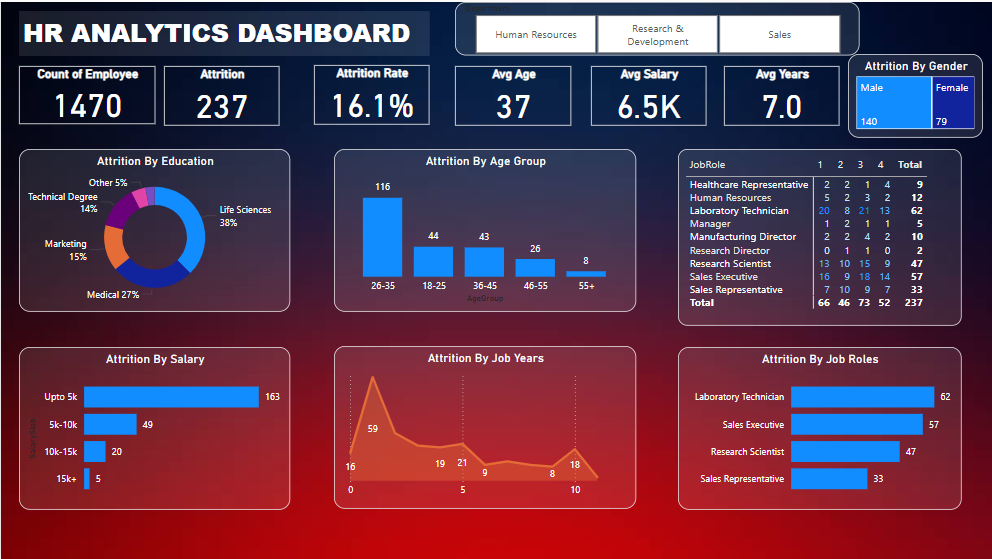

What the dashboard file says about the page in this screenshot:
{"tool":"powerbi","page":{"name":"Page 1","canvas":[1280,720],"ordinal":0},"visuals":[{"type":"card","title":"Count of Employee","fields":{"Values":["Count(HR_Analytics.EmpID)"]},"box":[22.7,82.2,175.7,75.1],"z":0},{"type":"card","title":"Avg Age","fields":{"Values":["Avg(HR_Analytics.Age)"]},"box":[585.4,82.2,150.2,76.5],"z":1000},{"type":"card","title":"Attrition","fields":{"Values":["Sum(HR_Analytics.AttritionCount)"]},"box":[209.8,82.2,148.8,76.5],"z":2000},{"type":"card","title":"Attrition Rate","fields":{"Values":["HR_Analytics.AttritionRate"]},"box":[403.9,80.8,148.8,76.5],"z":3000},{"type":"card","title":"Avg Salary","fields":{"Values":["Avg(HR_Analytics.MonthlyIncome)"]},"box":[761.1,82.2,148.8,76.5],"z":4000},{"type":"card","title":"Avg Years","fields":{"Values":["Avg(HR_Analytics.YearsAtCompany)"]},"box":[932.6,82.2,148.8,76.5],"z":5000},{"type":"donutChart","title":"Attrition By Education","fields":{"Y":["Sum(HR_Analytics.AttritionCount)"],"Category":["HR_Analytics.EducationField"]},"box":[22.7,189.9,350.1,209.8],"z":6000},{"type":"columnChart","title":"Attrition By Age Group","fields":{"Category":["HR_Analytics.AgeGroup"],"Y":["Sum(HR_Analytics.AttritionCount)"]},"box":[429.4,189.9,389.8,209.8],"z":7000},{"type":"pivotTable","fields":{"Rows":["HR_Analytics.JobRole"],"Values":["Sum(HR_Analytics.AttritionCount)"],"Columns":["HR_Analytics.JobSatisfaction"]},"box":[873.1,189.9,365.7,228.2],"z":8000},{"type":"barChart","title":"Attrition By Salary","fields":{"Category":["HR_Analytics.SalarySlab"],"Y":["Sum(HR_Analytics.AttritionCount)"]},"box":[22.7,445,350.1,209.8],"z":9000},{"type":"barChart","title":"Attrition By Job Roles","fields":{"Y":["Sum(HR_Analytics.AttritionCount)"],"Category":["HR_Analytics.JobRole"]},"box":[873.1,445,365.7,209.8],"z":10000},{"type":"stackedAreaChart","title":"Attrition By Job Years","fields":{"Category":["HR_Analytics.YearsAtCompany"],"Y":["Sum(HR_Analytics.AttritionCount)"]},"box":[429.4,443.6,389.8,209.8],"z":11000},{"type":"treemap","title":"Attrition By Gender","fields":{"Group":["HR_Analytics.Gender"],"Values":["Sum(HR_Analytics.AttritionCount)"]},"box":[1092.8,66.6,174.3,107.7],"z":12000},{"type":"slicer","fields":{"Values":["HR_Analytics.Department"]},"box":[585.4,0,521.6,69.4],"z":13000},{"type":"textbox","box":[22.7,11.3,530.1,58.1],"z":14000}]}

Visuals, with their boxes in screenshot pixels (x1, y1, x2, y2), scaled from the page's 1280x720 canvas onto the 992x559 screenshot:
"Count of Employee" card: 18 64 154 122
"Avg Age" card: 454 64 570 123
"Attrition" card: 163 64 278 123
"Attrition Rate" card: 313 63 428 122
"Avg Salary" card: 590 64 705 123
"Avg Years" card: 723 64 838 123
"Attrition By Education" donutChart: 18 147 289 310
"Attrition By Age Group" columnChart: 333 147 635 310
pivotTable - HR_Analytics.JobRole x Sum(HR_Analytics.AttritionCount): 677 147 960 325
"Attrition By Salary" barChart: 18 345 289 508
"Attrition By Job Roles" barChart: 677 345 960 508
"Attrition By Job Years" stackedAreaChart: 333 344 635 507
"Attrition By Gender" treemap: 847 52 982 135
slicer - HR_Analytics.Department: 454 0 858 54
textbox: 18 9 428 54
